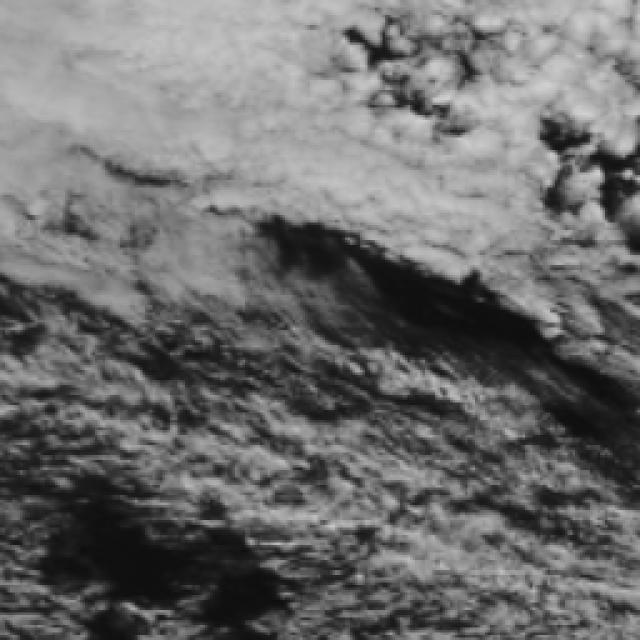CB: (0, 0, 196, 160), (197, 0, 346, 165)
